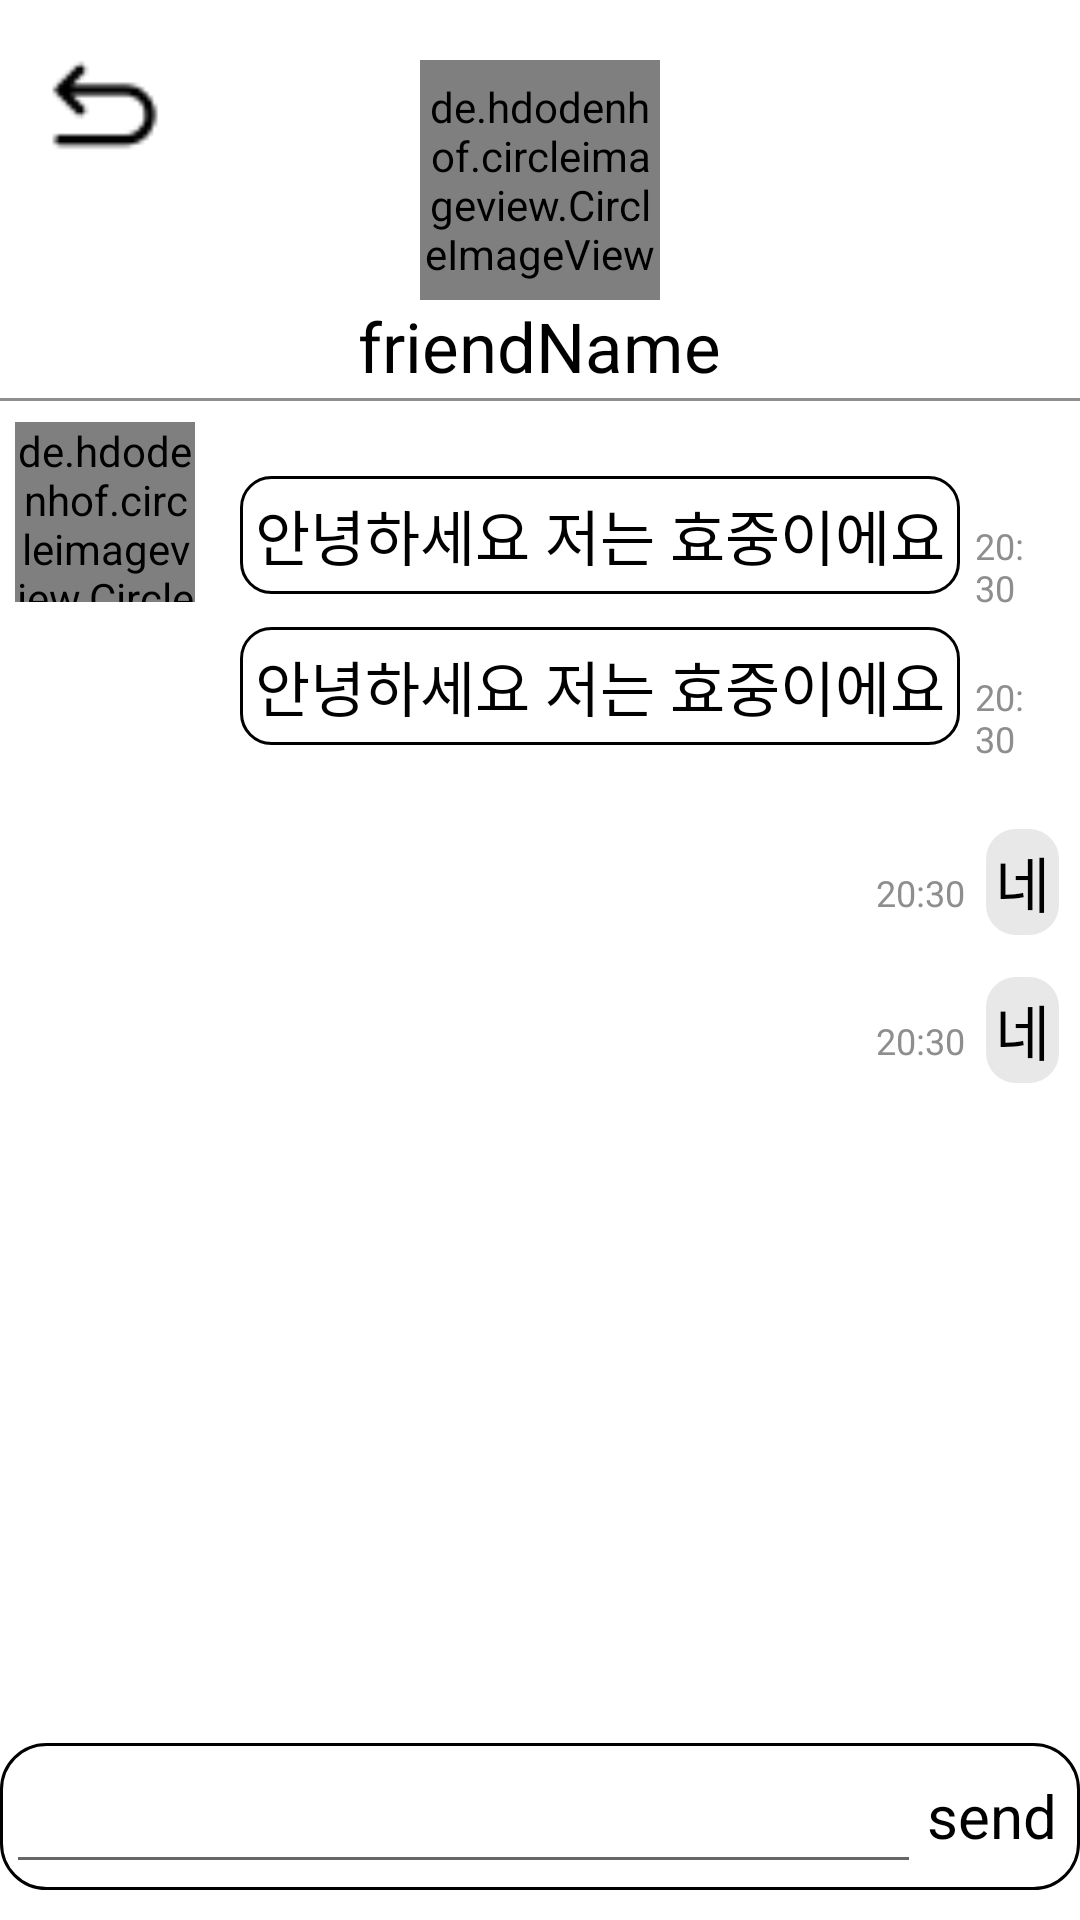

Icons on this 1080px x 1920px Android screen, each with the point to tap as (x=x, y=y):
back arrow: (x=105, y=105)
